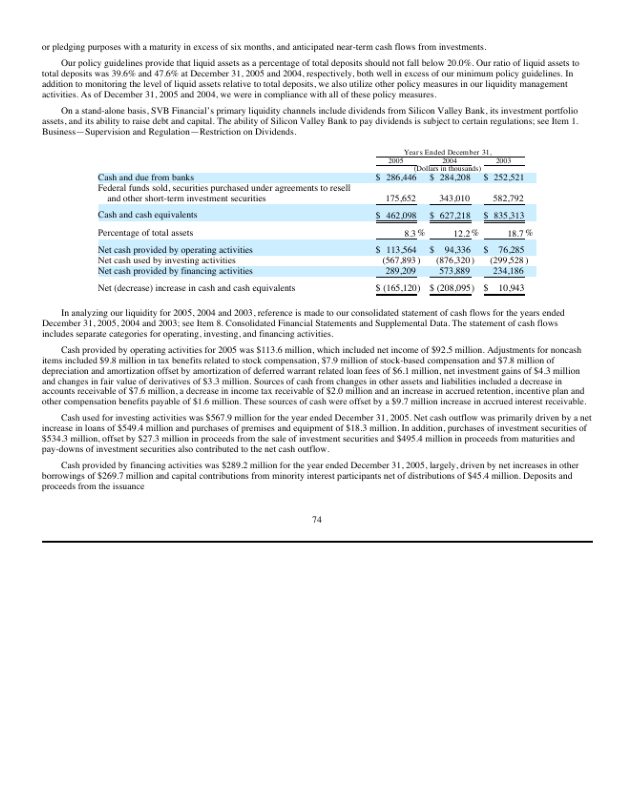table: (369, 145, 536, 300)
